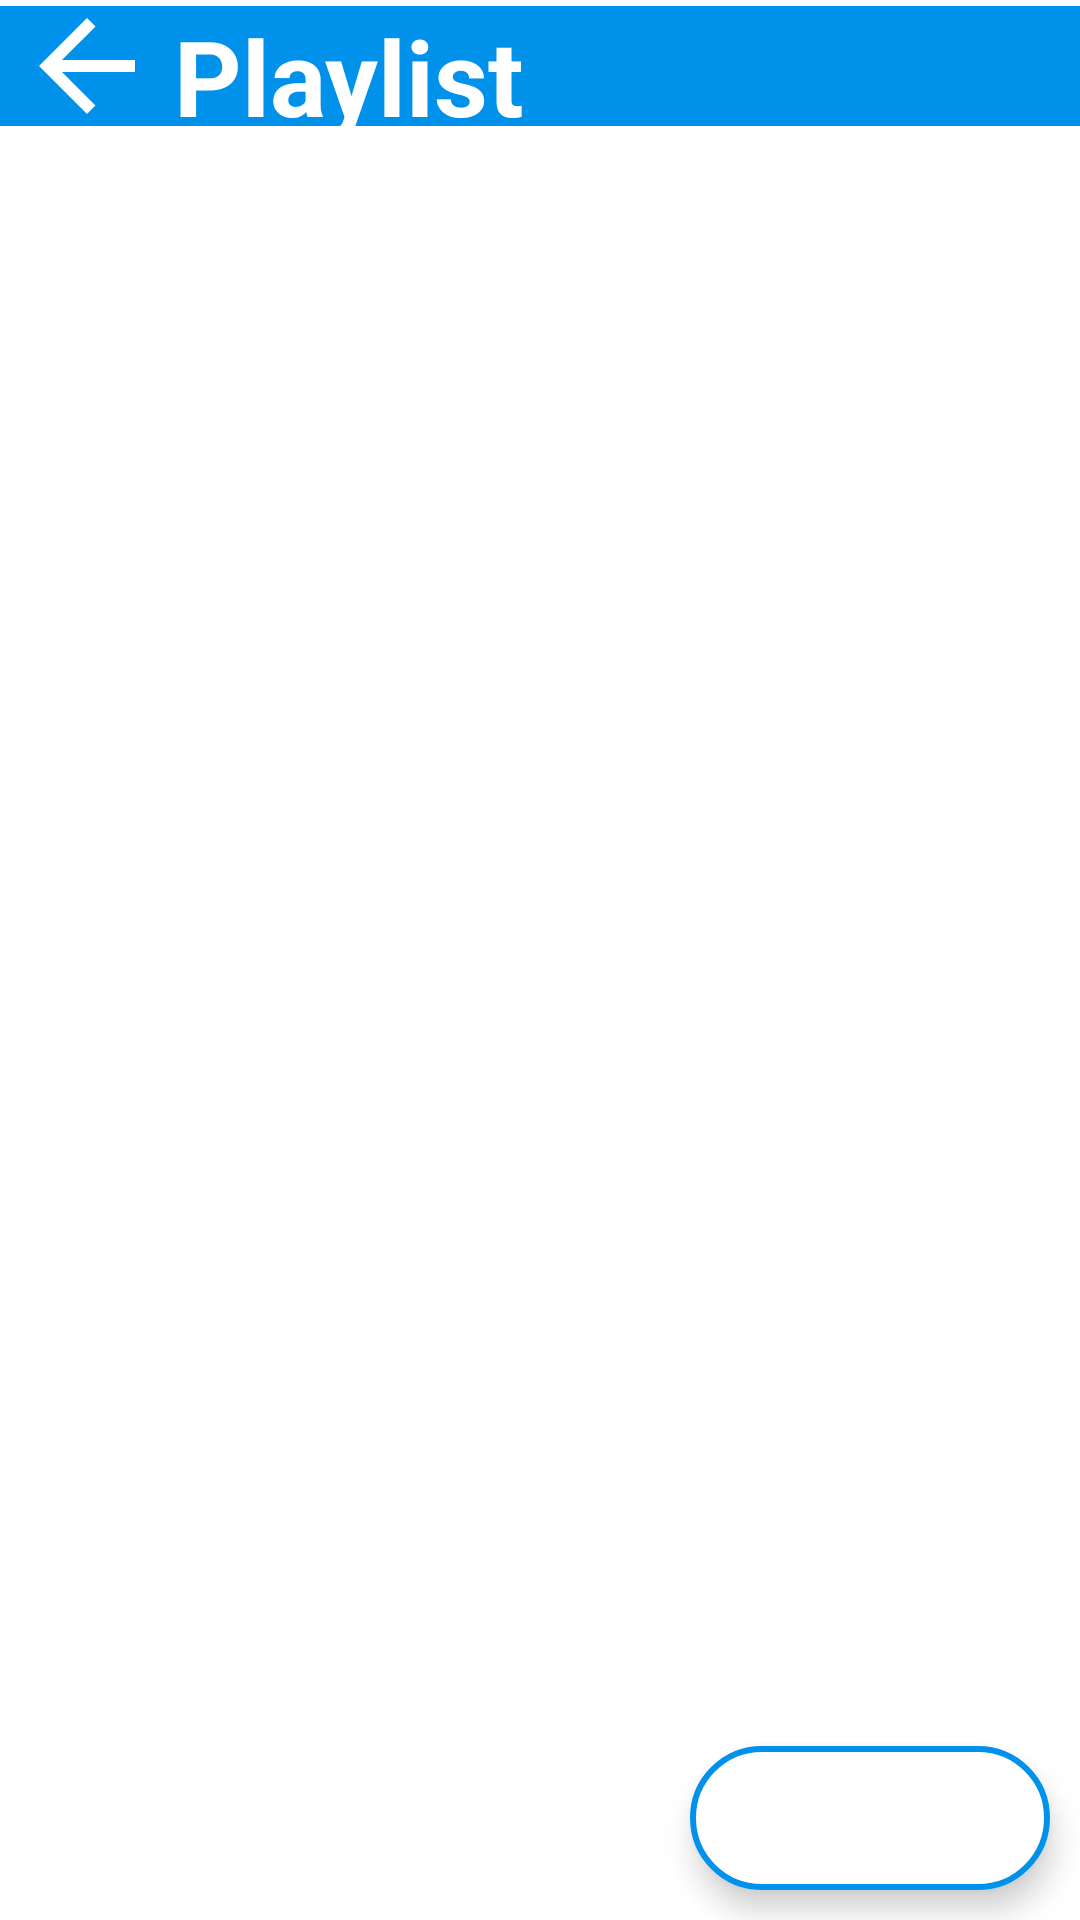

Icons on this 1080px×1920px Android screen, each with the point to tap as [x,y]:
back: [87,66]
